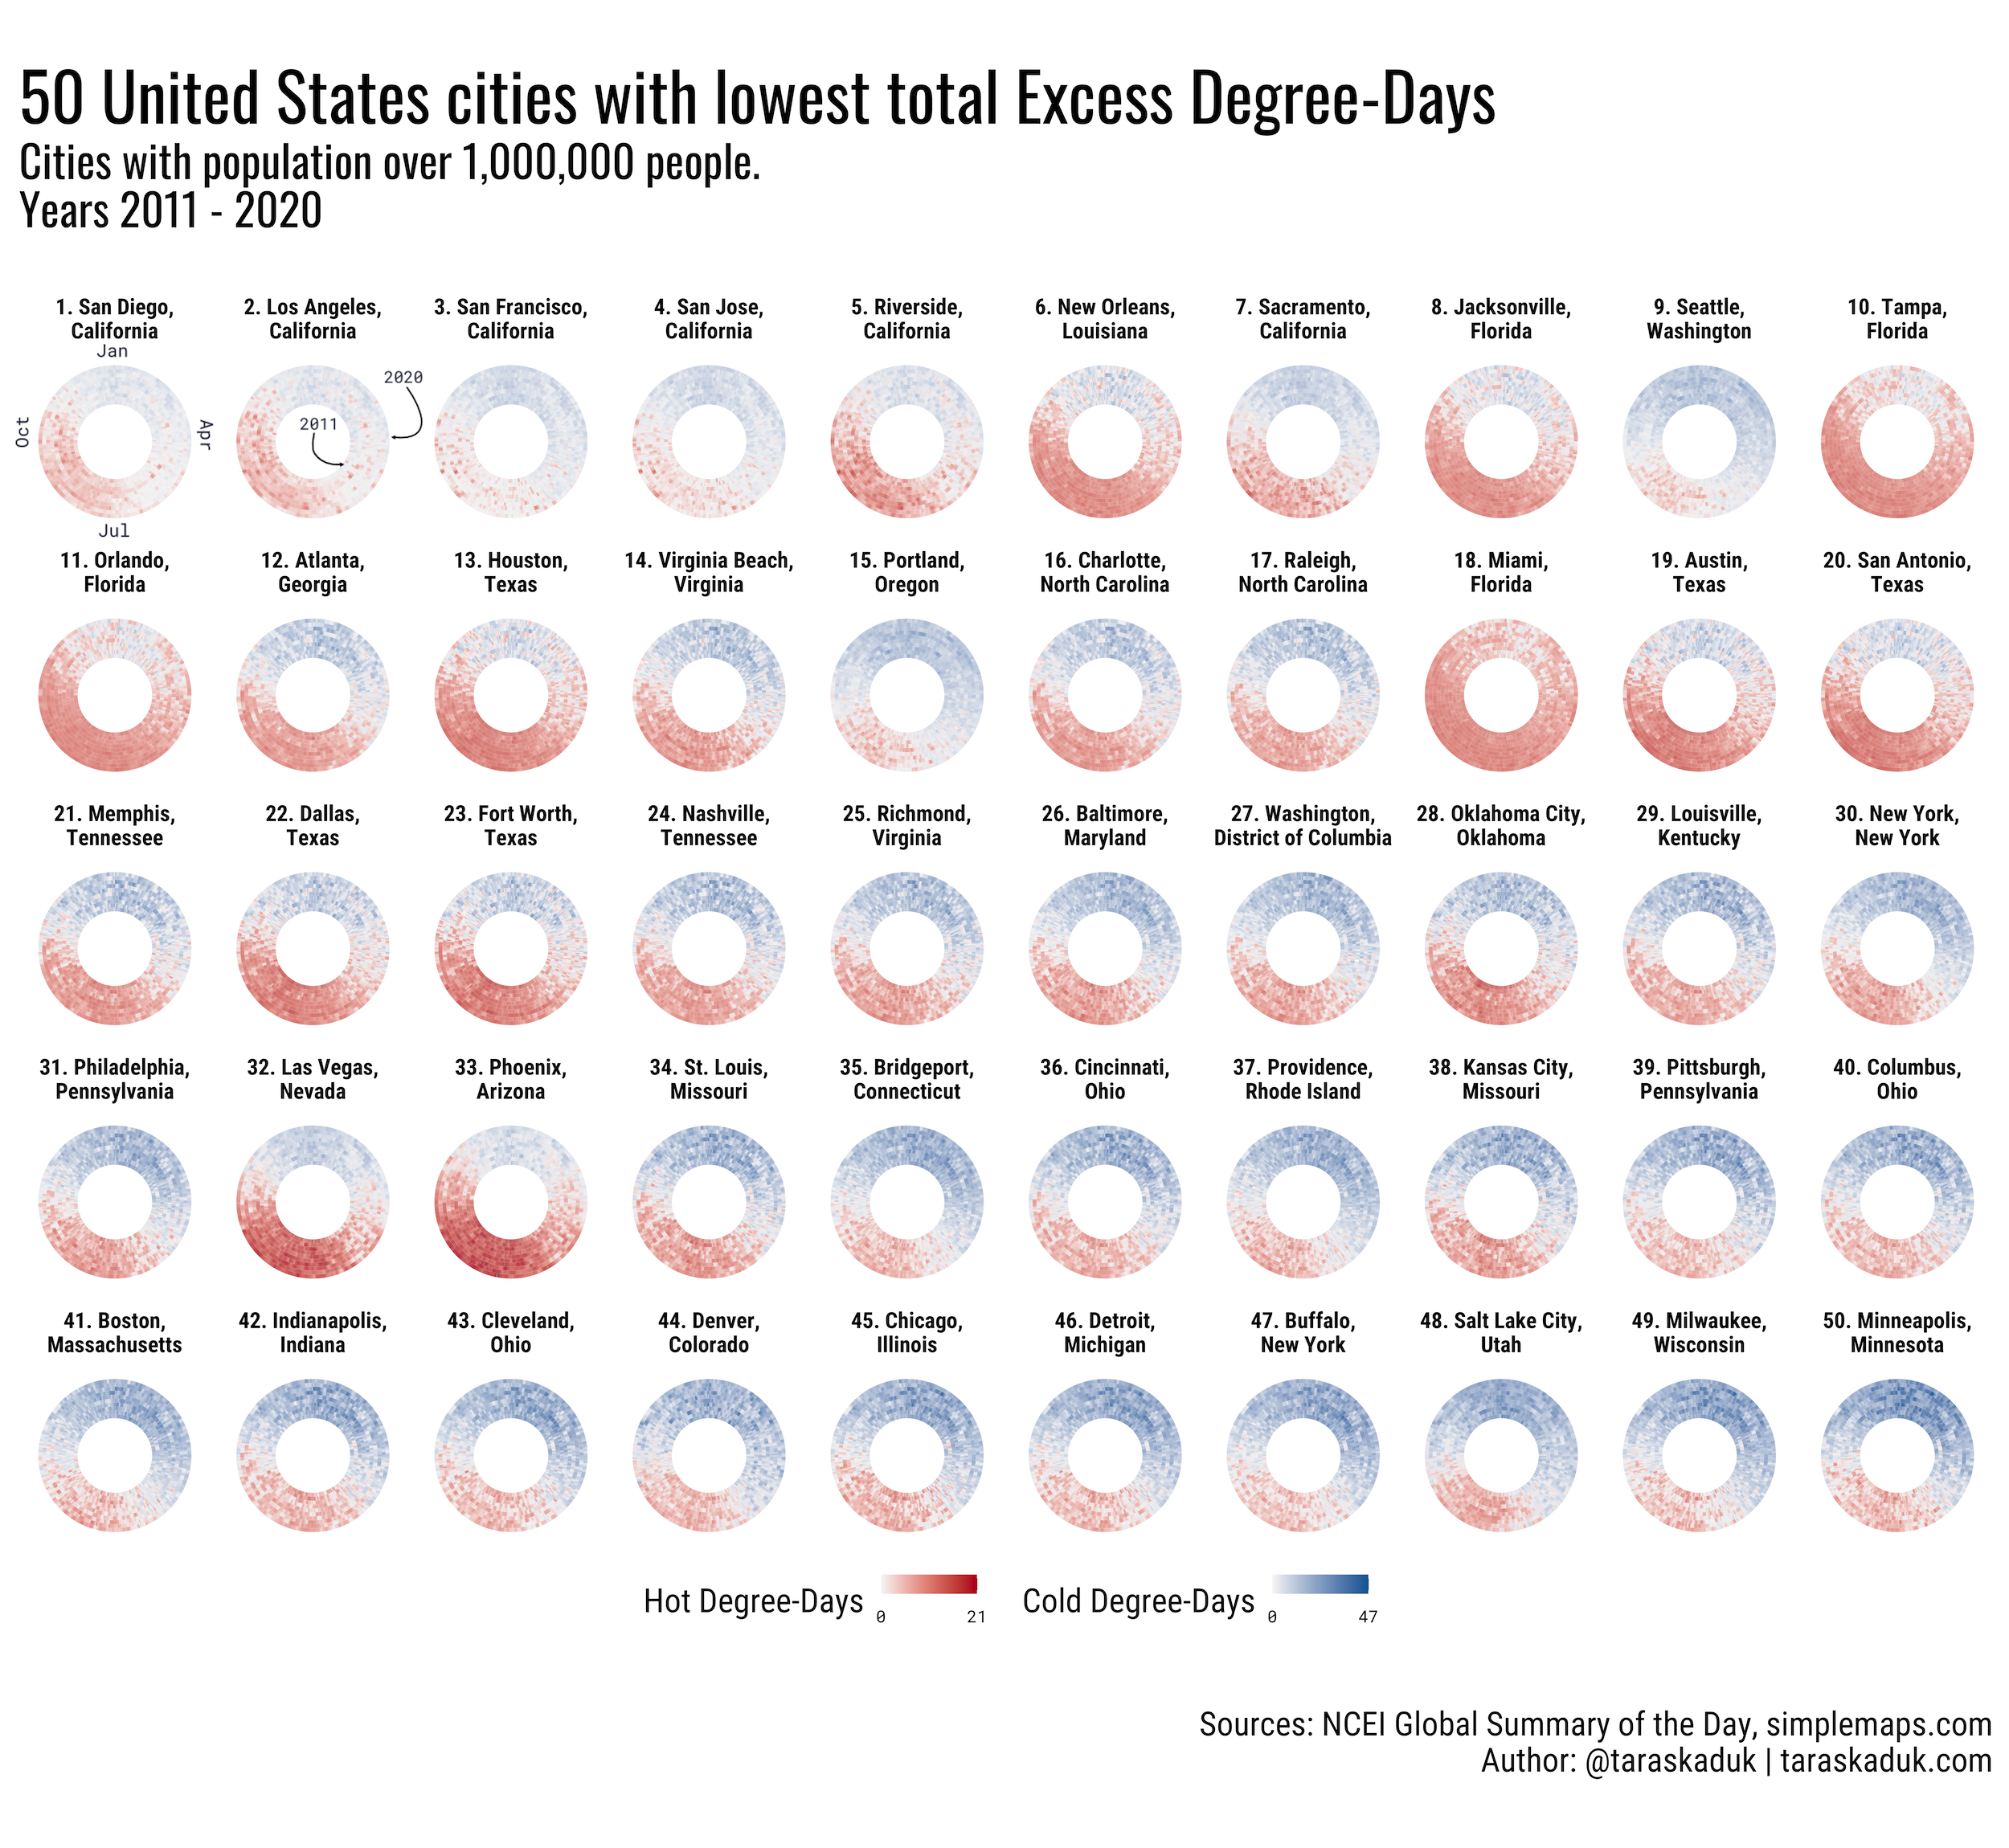

The page's visual inventory and layout, read from the dashboard file:
{"tool":"tableau","page":{"name":"Radial Stack Bar Charts","canvas":[900,800],"ordinal":0},"visuals":[{"type":"worksheet","title":"radial stacked bar","mark":"Polygon","box":[0,0,796,800]},{"type":"legend","title":"radial stacked bar","param":"[federated.0d4brrl0id6ggj1ffol9q0xiccq4].[none:Calculation_4518799278402621453:n","box":[796,0,104,90]},{"type":"parameter","param":"[Parameters].[Parameter 4]","box":[796,90,104,52]},{"type":"parameter","param":"[Parameters].[Parameter 1]","box":[796,142,104,52]},{"type":"parameter","param":"[Parameters].[Parameter 2]","box":[796,194,104,52]},{"type":"parameter","param":"[Parameters].[Parameter 3]","box":[796,246,104,52]},{"type":"worksheet","title":"social","mark":"Shape","cols":["Platform"],"box":[840,770,60,30]}]}

Visuals, with their boxes on the page's 900x800 design canvas (x1, y1, x2, y2). These are canvas units, not pixel positions in the 2009x1848 screenshot, which may show the page scaled, cropped or inside an application window:
"radial stacked bar" worksheet (Polygon marks): <box>0,0,796,800</box>
"radial stacked bar" legend: <box>796,0,900,90</box>
parameter: <box>796,90,900,142</box>
parameter: <box>796,142,900,194</box>
parameter: <box>796,194,900,246</box>
parameter: <box>796,246,900,298</box>
"social" worksheet (Shape marks): <box>840,770,900,800</box>
